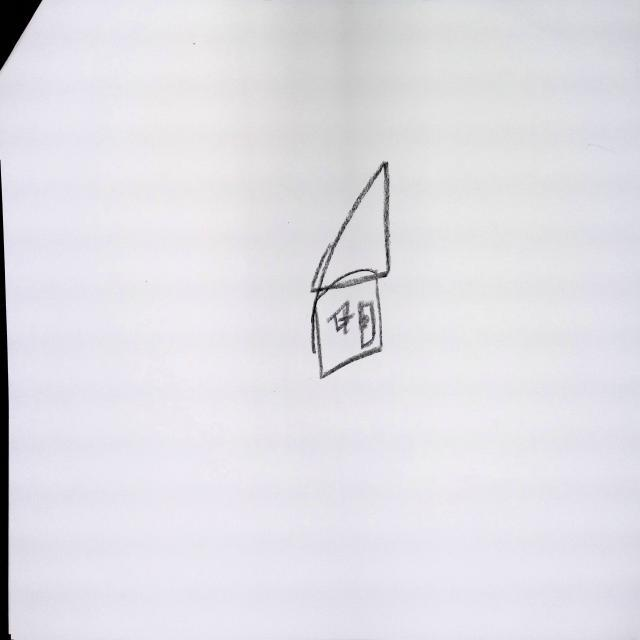door: (358, 301, 377, 348)
house: (311, 162, 391, 378)
roof: (315, 161, 389, 288), (314, 268, 385, 383)
window: (327, 301, 355, 334)
